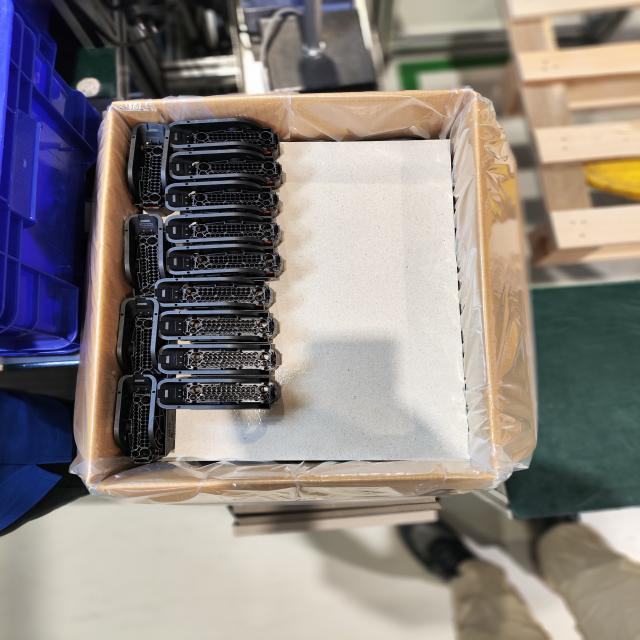P38: (168, 118, 281, 160), (169, 149, 283, 190), (127, 122, 175, 218), (114, 374, 165, 462), (165, 180, 280, 217), (165, 212, 282, 248), (157, 375, 280, 409), (158, 342, 281, 376), (154, 277, 274, 311), (157, 310, 279, 343), (166, 244, 284, 278), (122, 214, 167, 297), (117, 296, 159, 374)
